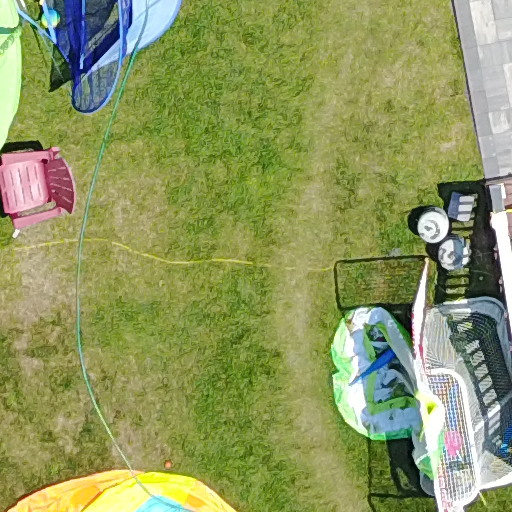toy: (321, 288, 479, 511)
